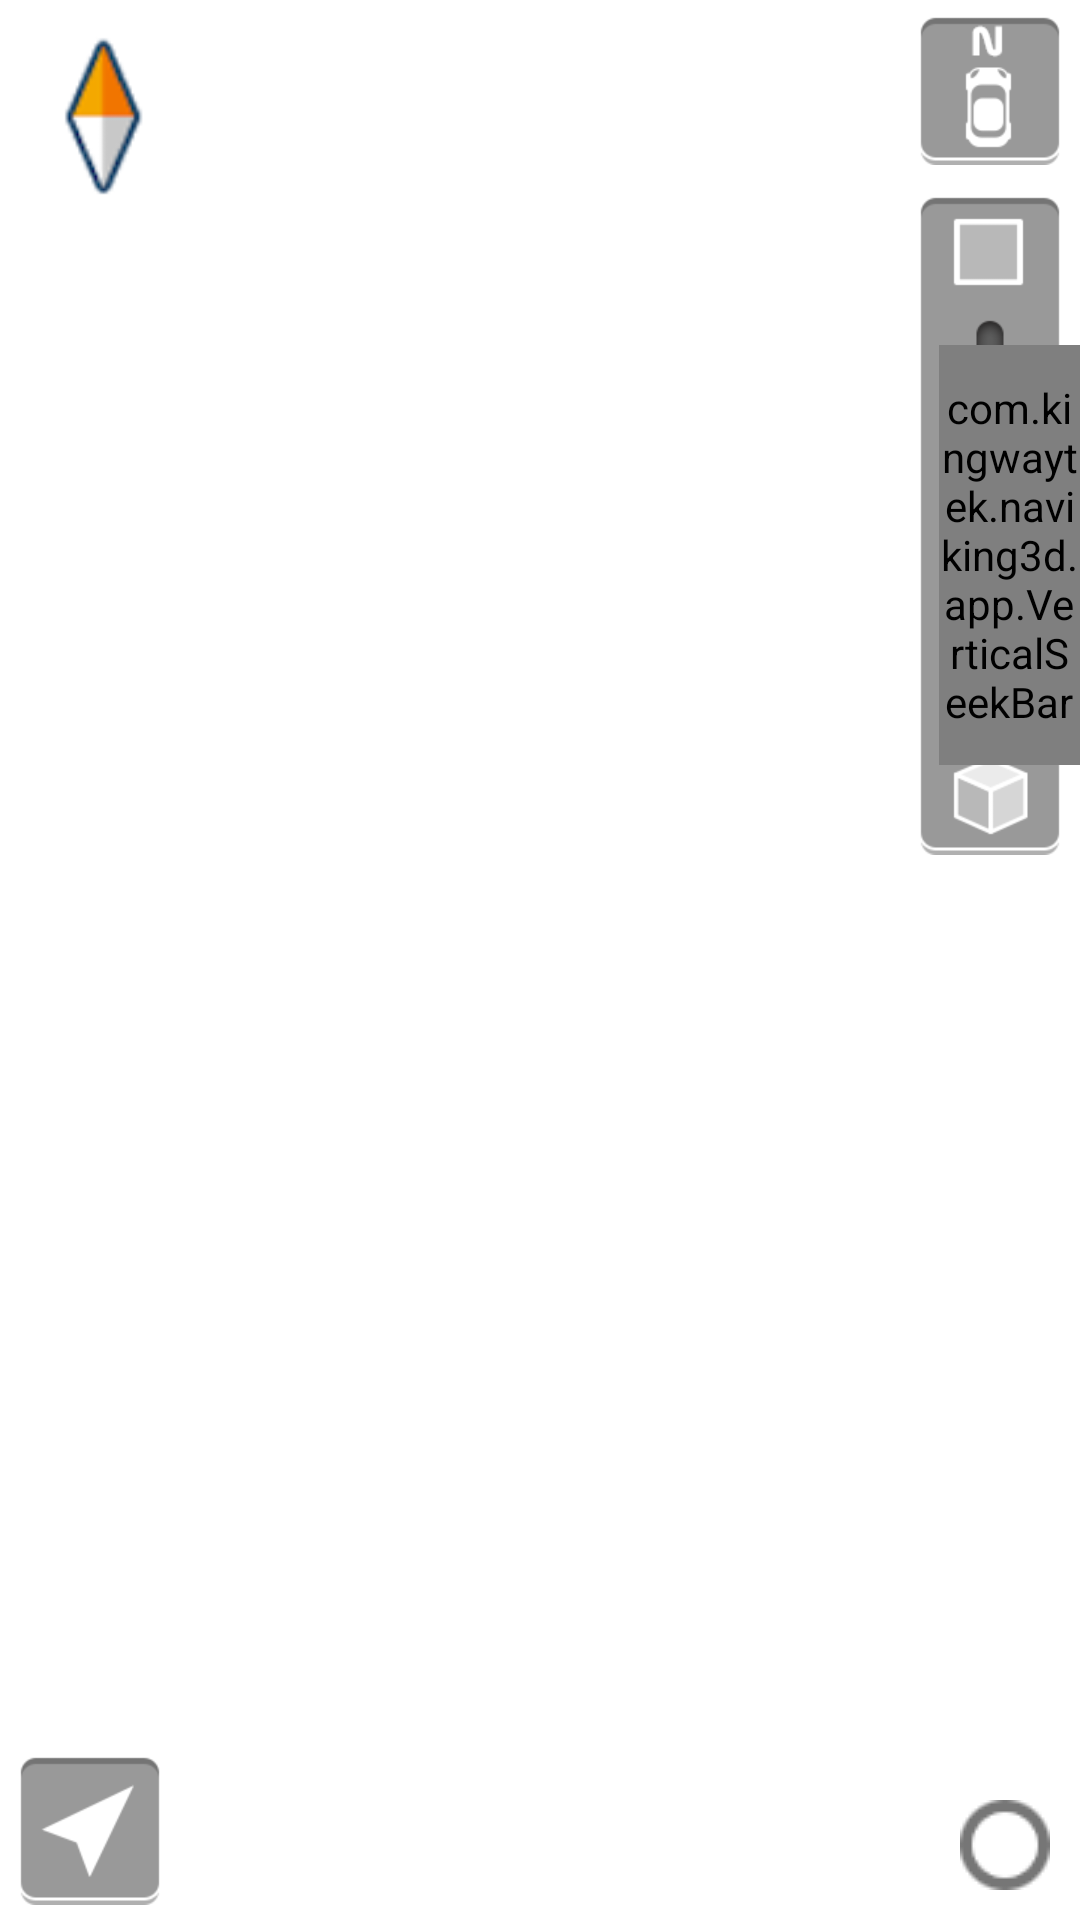

Point at icon controls on the screen. Image size 1080 × 1920, points as (x,y).
map go gps off: (90,1831)
map view slider 2d: (990,271)
